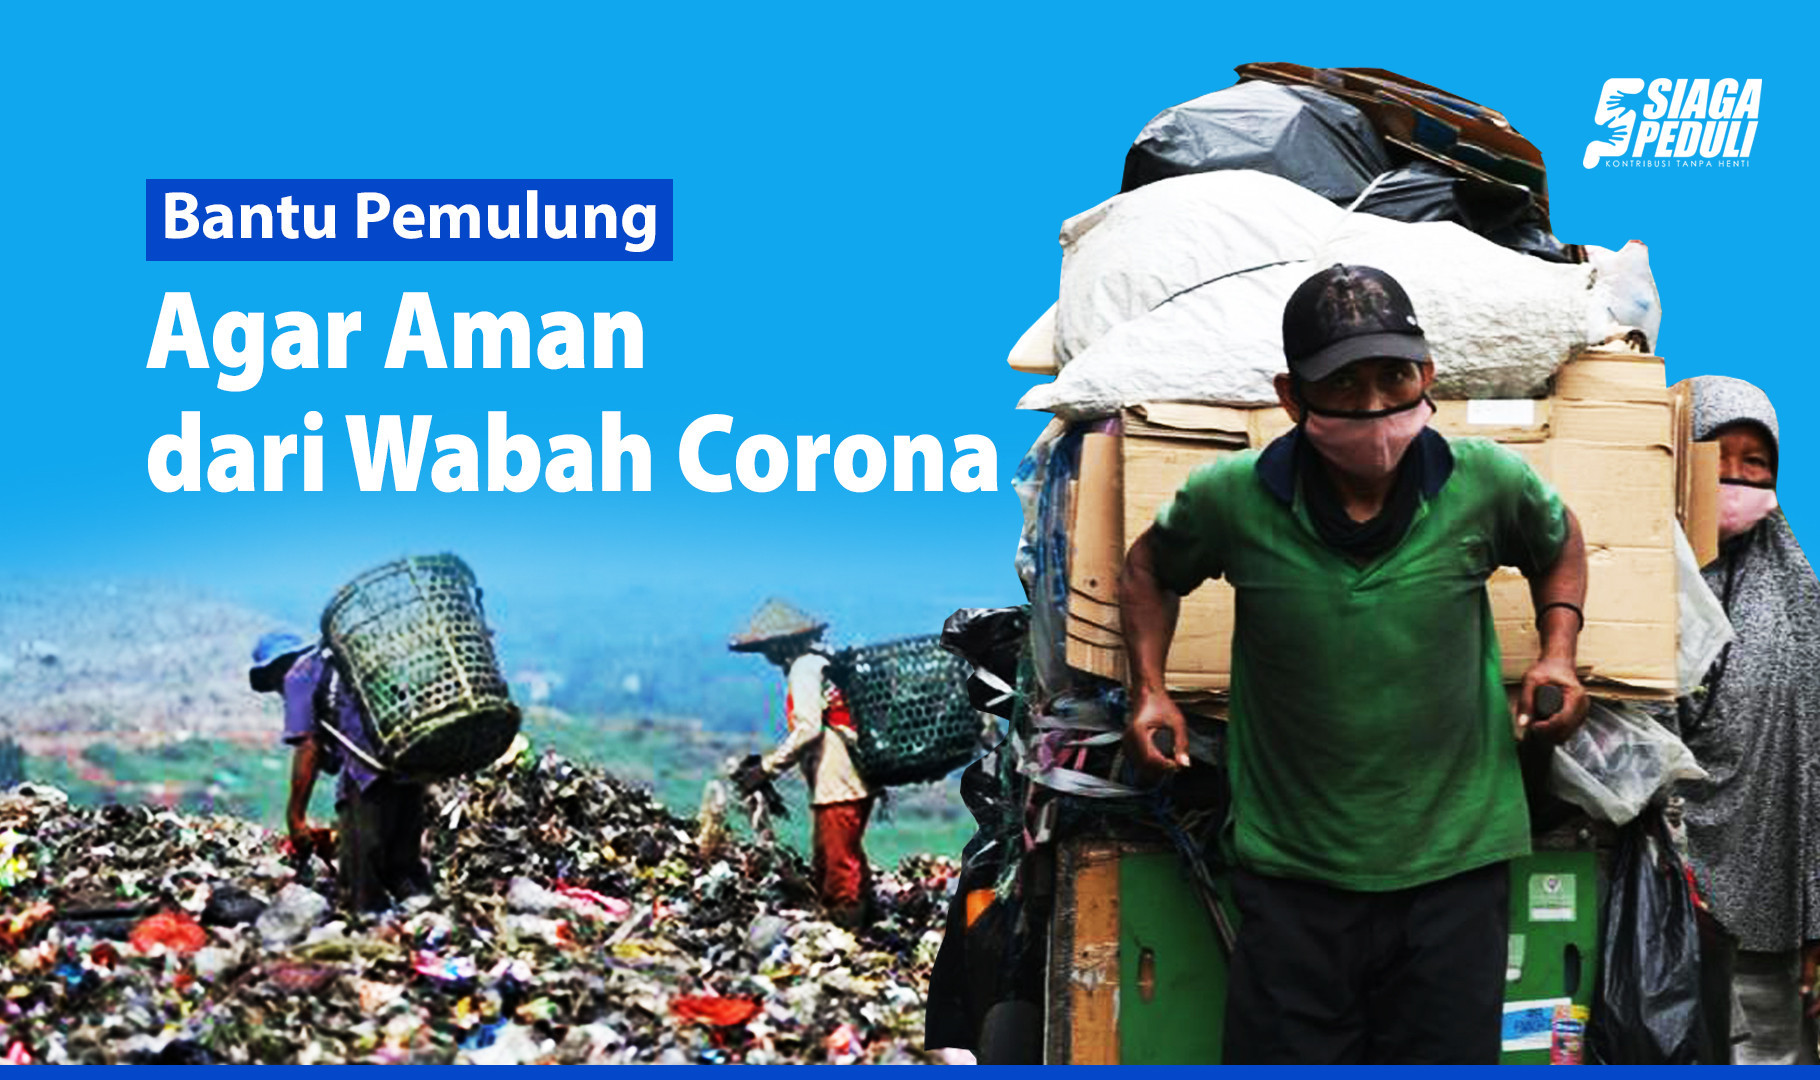pemulung: (1014, 111, 1703, 1080)
